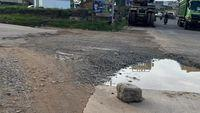Pothole: (88, 48, 200, 105)
